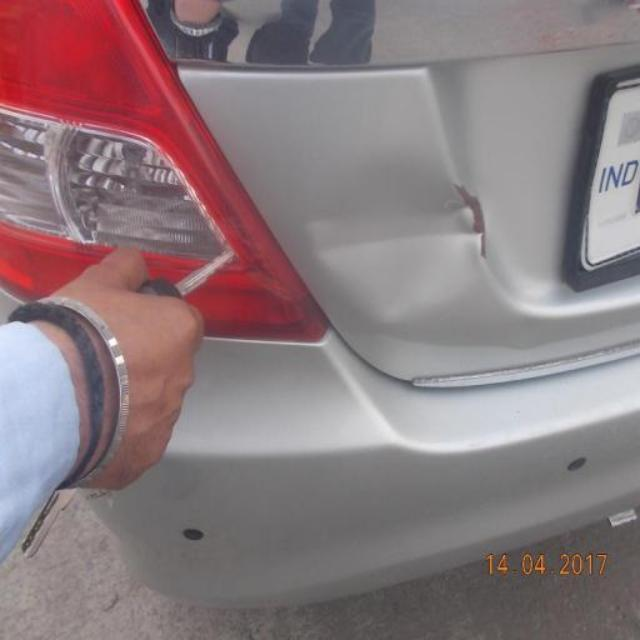crack: (450, 181, 491, 260)
dent: (306, 182, 495, 332)
